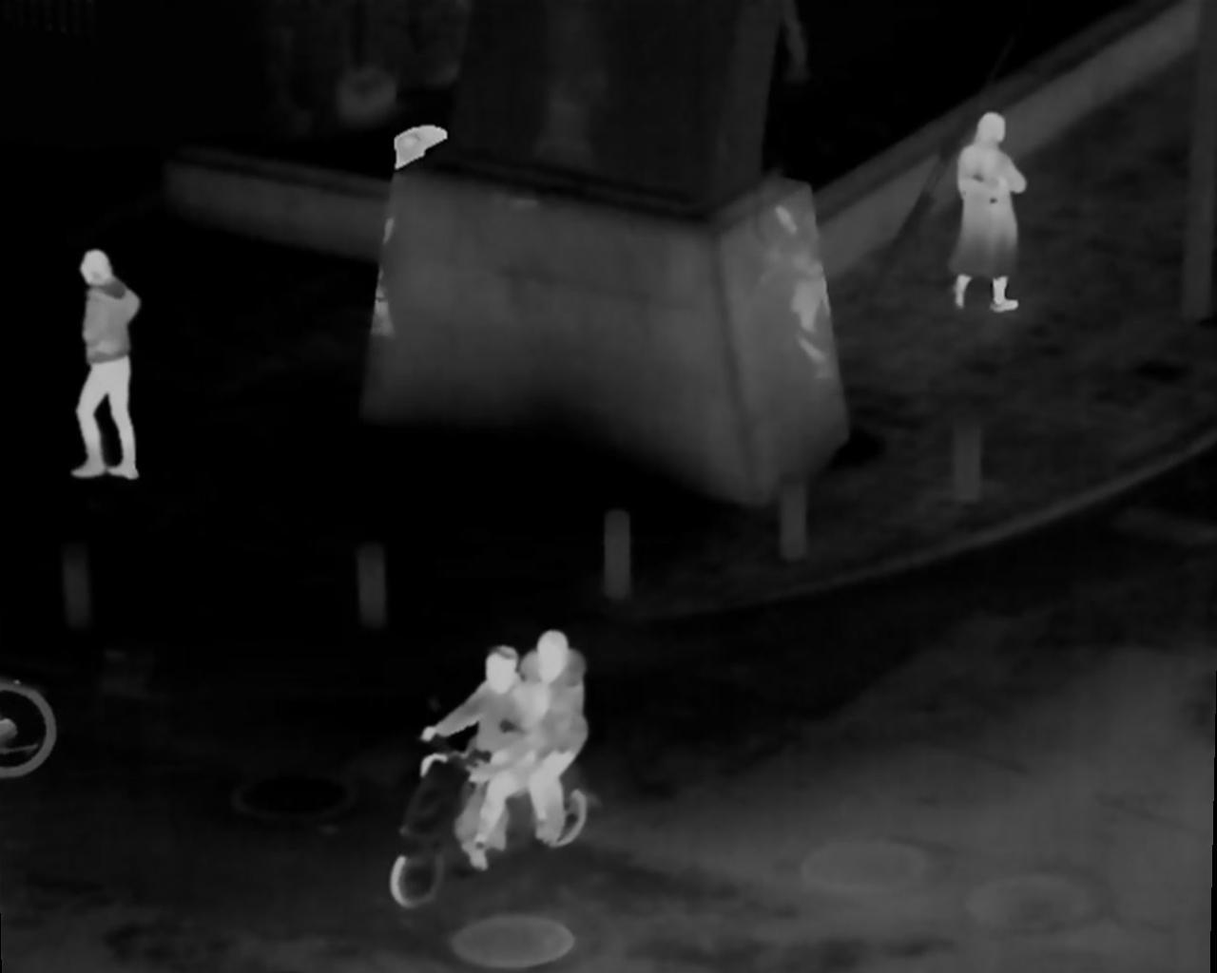person: (426, 647, 544, 861), (66, 243, 145, 487), (514, 626, 595, 845), (956, 115, 1042, 301)
